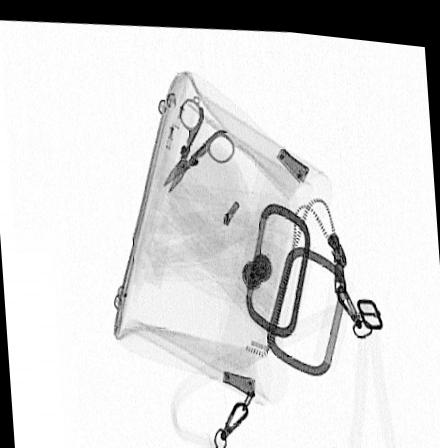Scissors: (162, 91, 239, 189)
